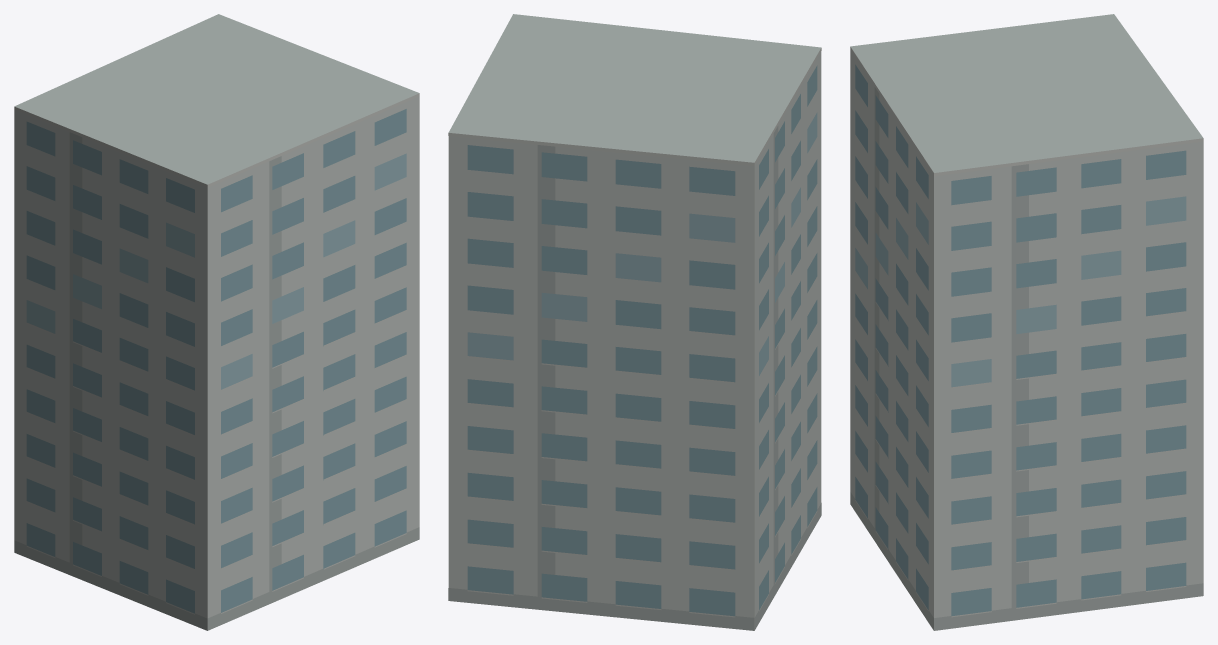
Rendered from residential-b39b0bc7-438e-4c76-93ce-f8caada85fc6.glb.
3 renders of one model, left to right at view 1: azimuth 30°, elevation 25°; view 2: azimuth 150°, elevation 25°; view 3: azimuth 270°, elevation 25°, orthographic. The views are drawn at different scales.
Visible parts, largest first — view 1: residential-b39b0bc7-438e-4c76-93ce-f8caada85fc6.tmp; view 2: residential-b39b0bc7-438e-4c76-93ce-f8caada85fc6.tmp; view 3: residential-b39b0bc7-438e-4c76-93ce-f8caada85fc6.tmp.
Part boxes in pixels (box(x1,y1,x2,y2)): residential-b39b0bc7-438e-4c76-93ce-f8caada85fc6.tmp: box(14, 14, 419, 630); residential-b39b0bc7-438e-4c76-93ce-f8caada85fc6.tmp: box(448, 14, 821, 630); residential-b39b0bc7-438e-4c76-93ce-f8caada85fc6.tmp: box(850, 14, 1203, 630).
Size of the model in its own units: 25.35 by 34 by 23.79.
